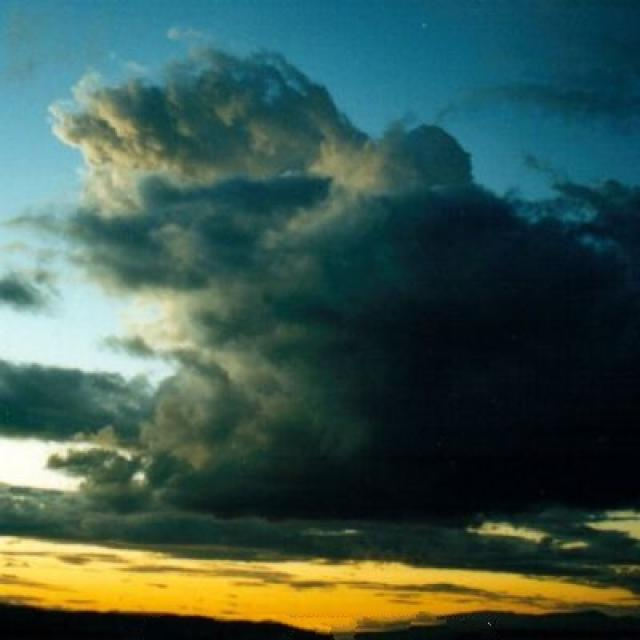Cu: (1, 51, 640, 483)
